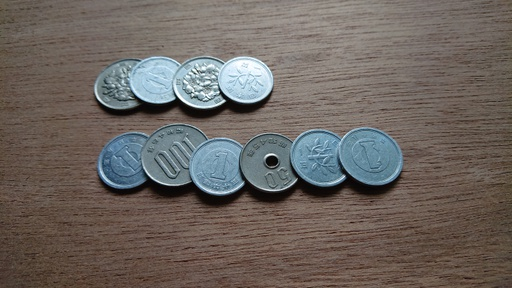100yen: (140, 123, 213, 187), (94, 58, 157, 111), (172, 56, 233, 110)
1yen: (337, 127, 402, 187), (189, 137, 252, 196), (289, 129, 349, 188), (97, 132, 156, 189), (129, 56, 187, 105), (218, 56, 273, 105)
50yen: (239, 133, 300, 194)
